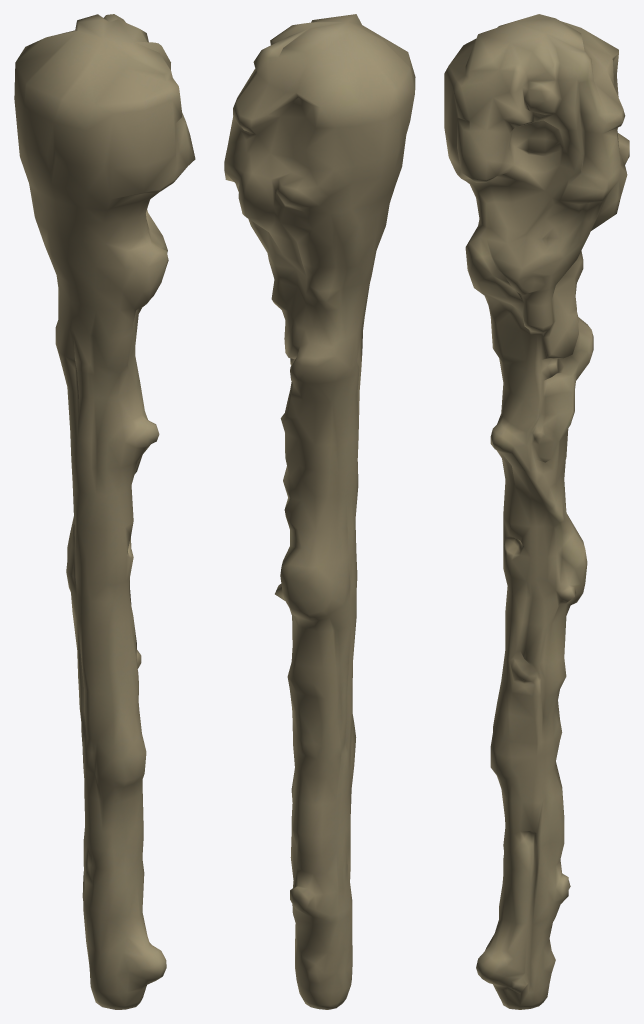
Rendered from worn_staff.glb.
3 renders of one model, left to right at view 1: azimuth 30°, elevation 25°; view 2: azimuth 150°, elevation 25°; view 3: azimuth 270°, elevation 25°, orthographic.
Visible parts, largest first — view 1: base_model_path; view 2: base_model_path; view 3: base_model_path.
Boxes of the visible parts, x1=… form: base_model_path: x1=14, y1=14, x2=195, y2=1009; base_model_path: x1=224, y1=14, x2=415, y2=1009; base_model_path: x1=444, y1=14, x2=629, y2=1009.
Bounding box in the file's own units: 0.1526 × 0.9999 × 0.1722.
Materials: 1 (1 with a texture image).
